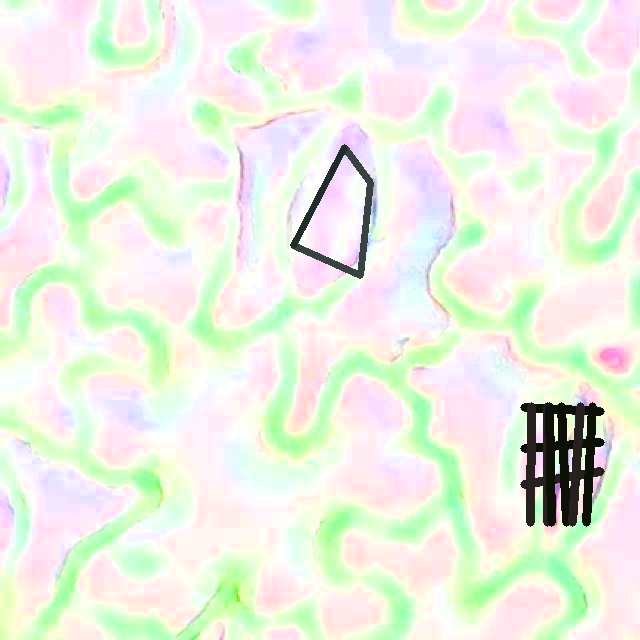open: (290, 144, 373, 278), (521, 402, 604, 525)
